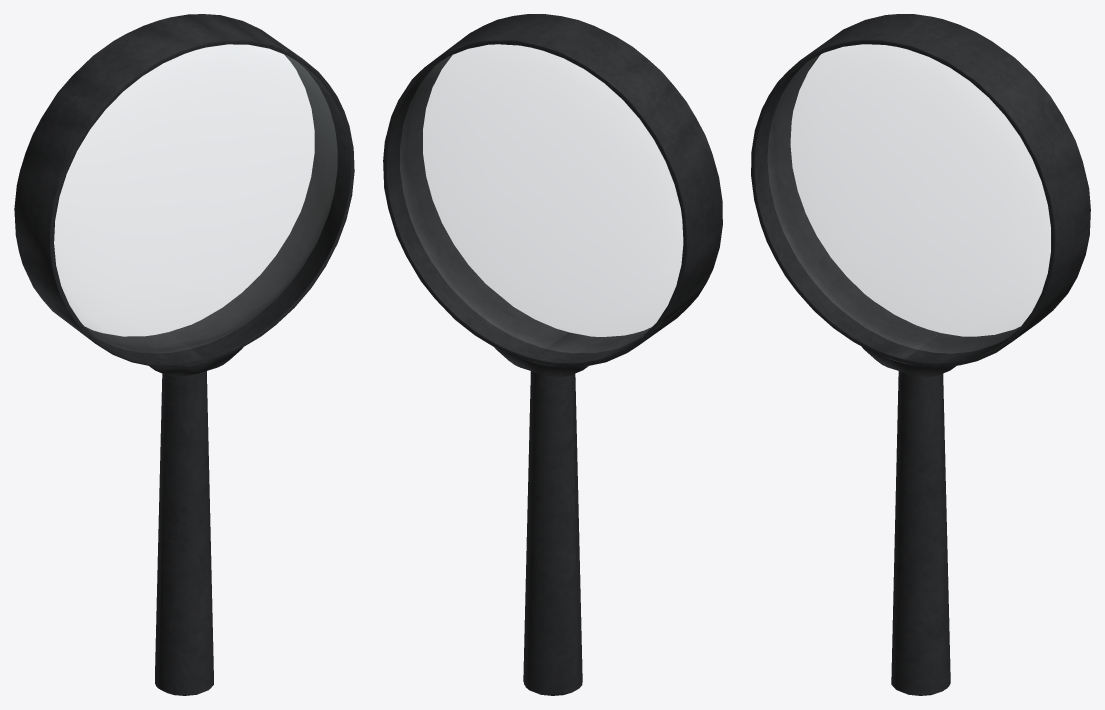
File: magnifying_glass_01.glb
The picture shows the model from 3 angles, left to right: view 1: azimuth 30°, elevation 25°; view 2: azimuth 150°, elevation 25°; view 3: azimuth 330°, elevation 25°; orthographic projection.
Parts seen in each view (by area): view 1: magnifying_glass_01; view 2: magnifying_glass_01; view 3: magnifying_glass_01.
Boxes of the visible parts, <box> form: magnifying_glass_01: <box>14,14,354,695</box>; magnifying_glass_01: <box>383,14,722,695</box>; magnifying_glass_01: <box>751,14,1090,695</box>.
Size of the model in its own units: 0.132 by 0.2715 by 0.0271.
2 materials, 1 textured.
